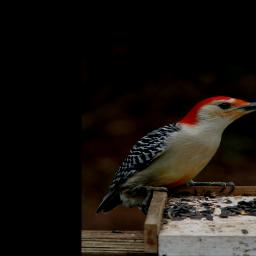Woodpecker: (93, 96, 256, 216)
